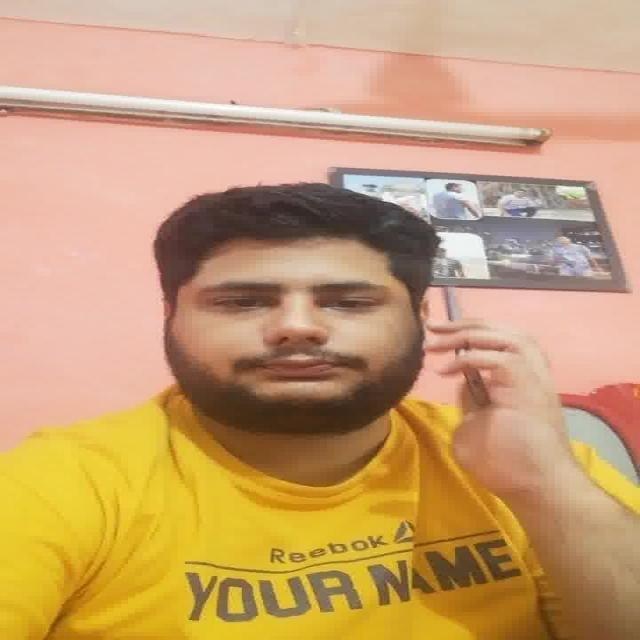Phone: (438, 279, 493, 413)
